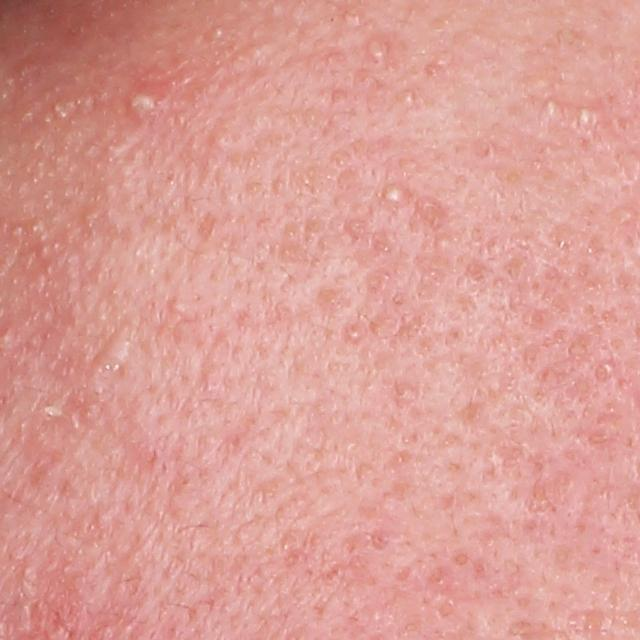comedo: (339, 8, 362, 33), (207, 128, 232, 151), (432, 232, 454, 253), (167, 298, 190, 318), (334, 151, 351, 168), (402, 90, 419, 106), (246, 181, 263, 196), (301, 173, 315, 190), (208, 27, 225, 39), (284, 223, 297, 238)
papule: (590, 360, 611, 380)
pustule: (359, 32, 395, 68), (125, 88, 162, 121), (573, 104, 610, 131), (378, 182, 409, 207), (540, 93, 567, 117)
